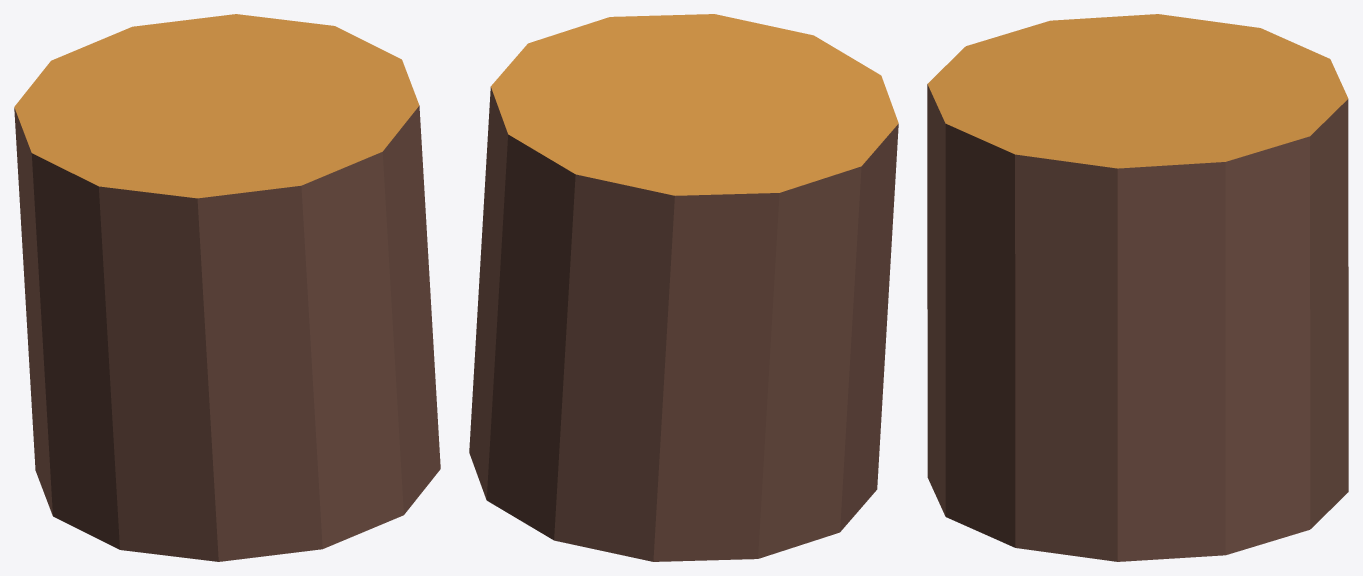
3 renders of one model, left to right at view 1: azimuth 30°, elevation 25°; view 2: azimuth 150°, elevation 25°; view 3: azimuth 270°, elevation 25°, orthographic. The views are drawn at different scales.
Visible parts, largest first — view 1: mesh_987341342; view 2: mesh_987341342; view 3: mesh_987341342.
Part boxes in pixels (x1=…): mesh_987341342: x1=14, y1=14, x2=440, y2=561; mesh_987341342: x1=469, y1=14, x2=898, y2=561; mesh_987341342: x1=927, y1=14, x2=1348, y2=561.
Bounding box in the file's own units: 25.3 × 25.4 × 23.9.
